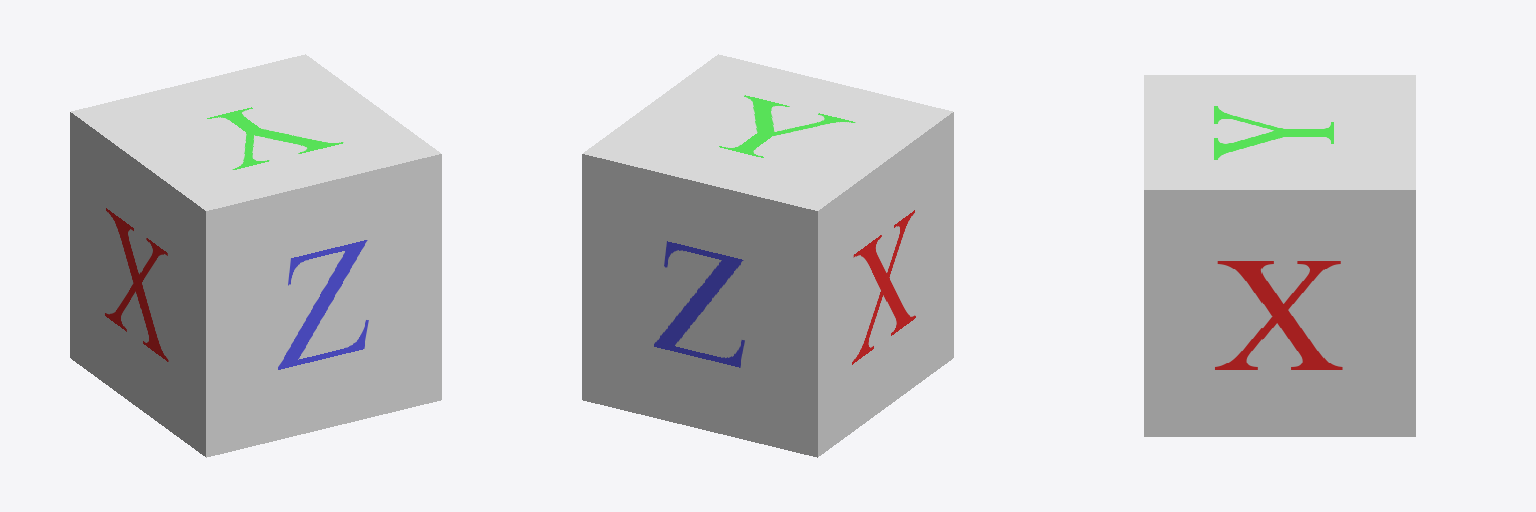
3 views of the same model, side by side, from view 1: azimuth 30°, elevation 25°; view 2: azimuth 150°, elevation 25°; view 3: azimuth 270°, elevation 25° (orthographic).
Parts seen in each view (by area): view 1: ViewCube:pCube1 group; view 2: ViewCube:pCube1 group; view 3: ViewCube:pCube1 group.
Boxes of the visible parts, x1,y1,x2,y2 form: ViewCube:pCube1 group: [70, 54, 441, 457]; ViewCube:pCube1 group: [582, 54, 953, 457]; ViewCube:pCube1 group: [1144, 75, 1415, 436].
Size of the model in its own units: 1 by 1 by 1.
1 materials, 1 textured.